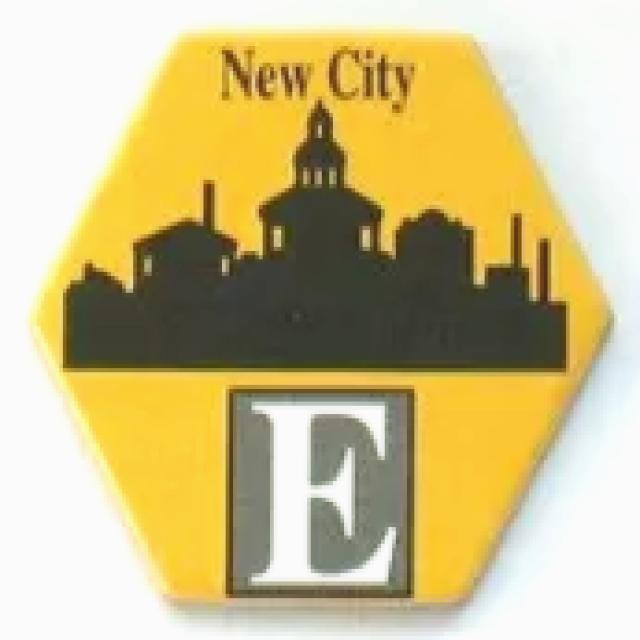20_0: (32, 34, 620, 615)
